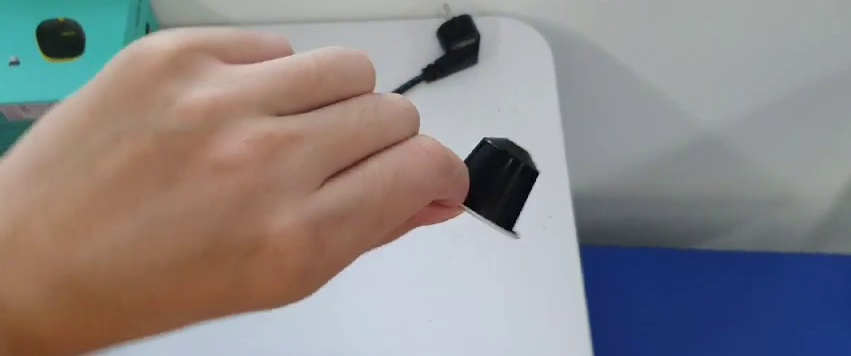capsule_10: (451, 134, 541, 242)
